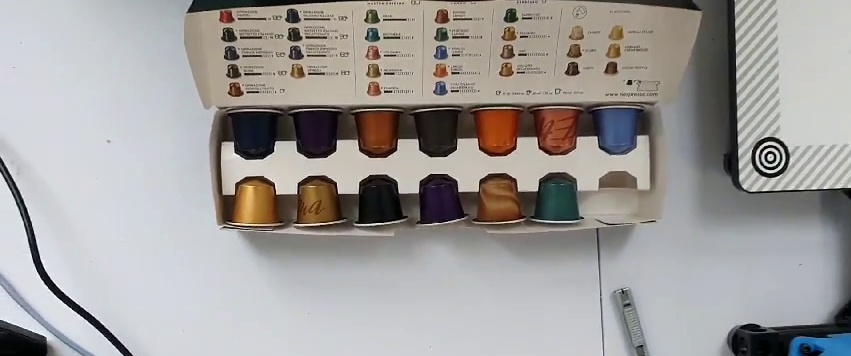capsule_1: (227, 107, 282, 159)
capsule_10: (350, 173, 411, 229)
capsule_11: (412, 172, 470, 229)
capsule_12: (473, 176, 529, 227)
capsule_13: (529, 172, 585, 227)
capsule_2: (286, 108, 343, 158)
capsule_3: (349, 106, 404, 157)
capsule_4: (411, 104, 463, 158)
capsule_5: (467, 105, 524, 157)
capsule_6: (525, 104, 584, 154)
capsule_7: (588, 103, 645, 157)
capsule_8: (224, 178, 284, 233)
capsule_9: (290, 175, 348, 229)
